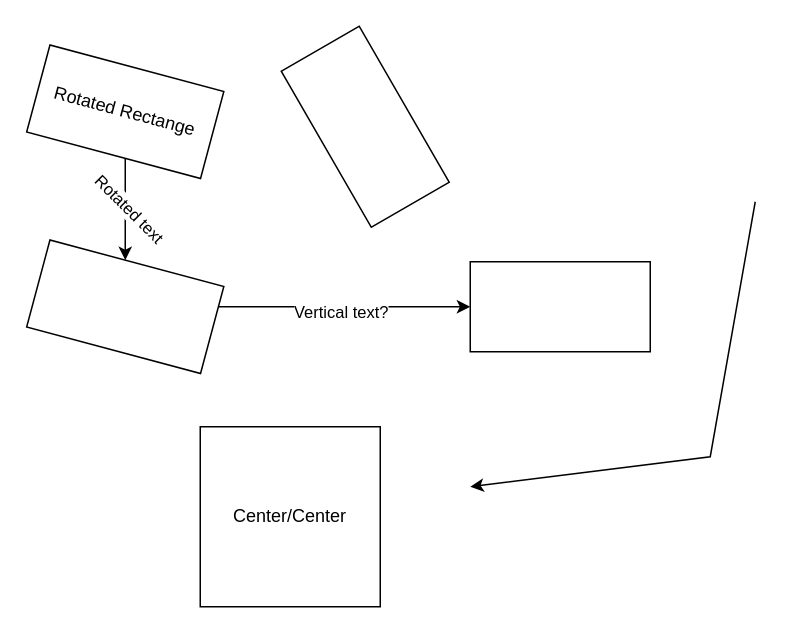
The diagram is 794 pixels wide and 635 high, and some of its shapes have lost their labels. Each missing label, with the centre of its shape:
Text: the point at 364,126
Vertical text in non rotated rectangle: the point at 559,306
